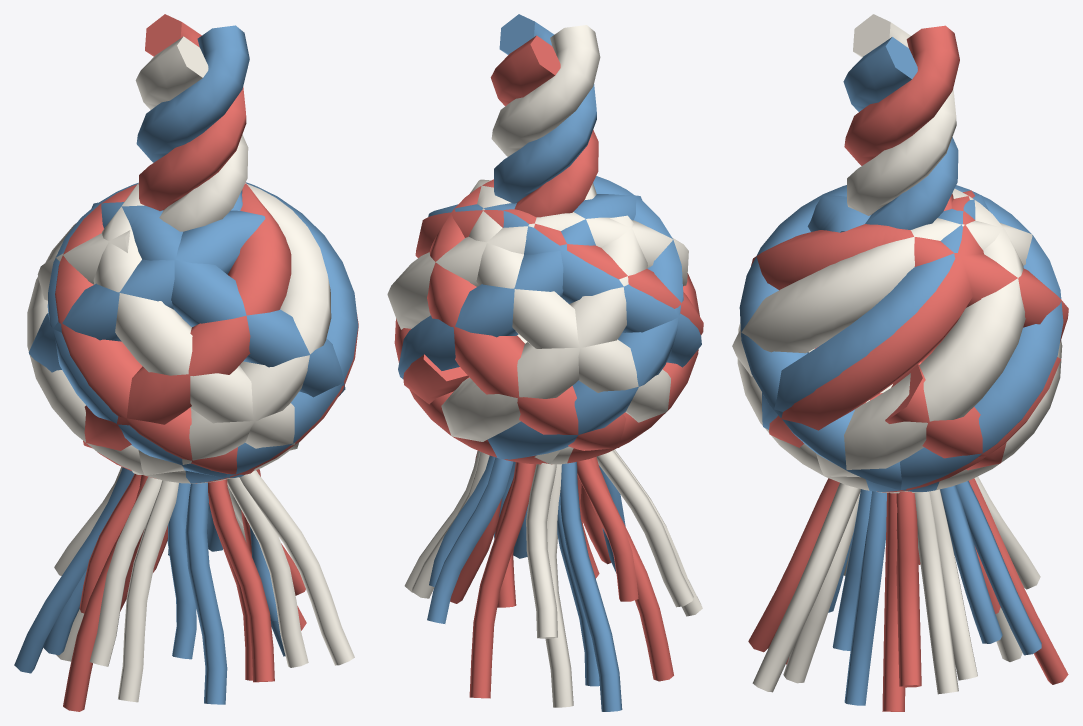
File: toy_tug.glb
3 views of the same model, side by side, from view 1: azimuth 30°, elevation 25°; view 2: azimuth 150°, elevation 25°; view 3: azimuth 270°, elevation 25° (orthographic). The views are drawn at different scales.
Parts seen in each view (by area): view 1: KnotHand, KnotMouth; view 2: KnotHand, KnotMouth; view 3: KnotHand, KnotMouth.
Boxes of the visible parts, left/top/right/bottom form: KnotHand: left=27, top=14, right=358, bottom=704; KnotMouth: left=14, top=466, right=308, bottom=711; KnotHand: left=387, top=14, right=703, bottom=707; KnotMouth: left=404, top=450, right=693, bottom=711; KnotHand: left=732, top=14, right=1068, bottom=705; KnotMouth: left=783, top=476, right=1040, bottom=711.
Bounding box in the file's own units: 0.0842 × 0.1837 × 0.0842.
